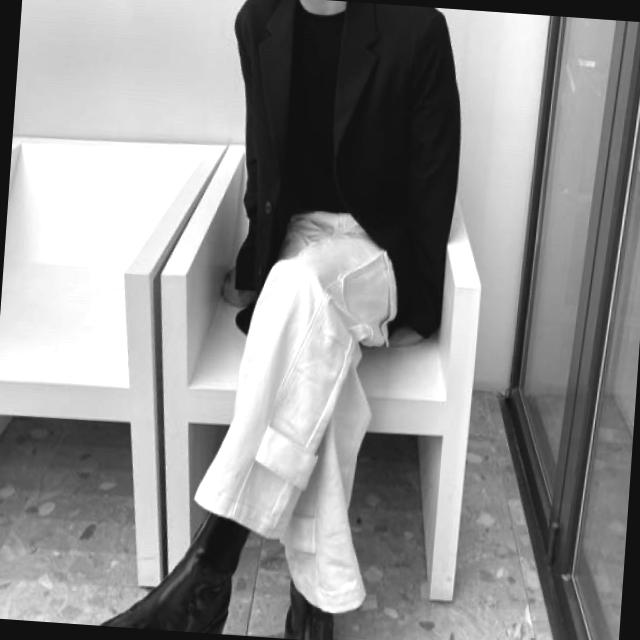blazer: (211, 0, 468, 338)
cottonpants: (186, 196, 398, 567)
